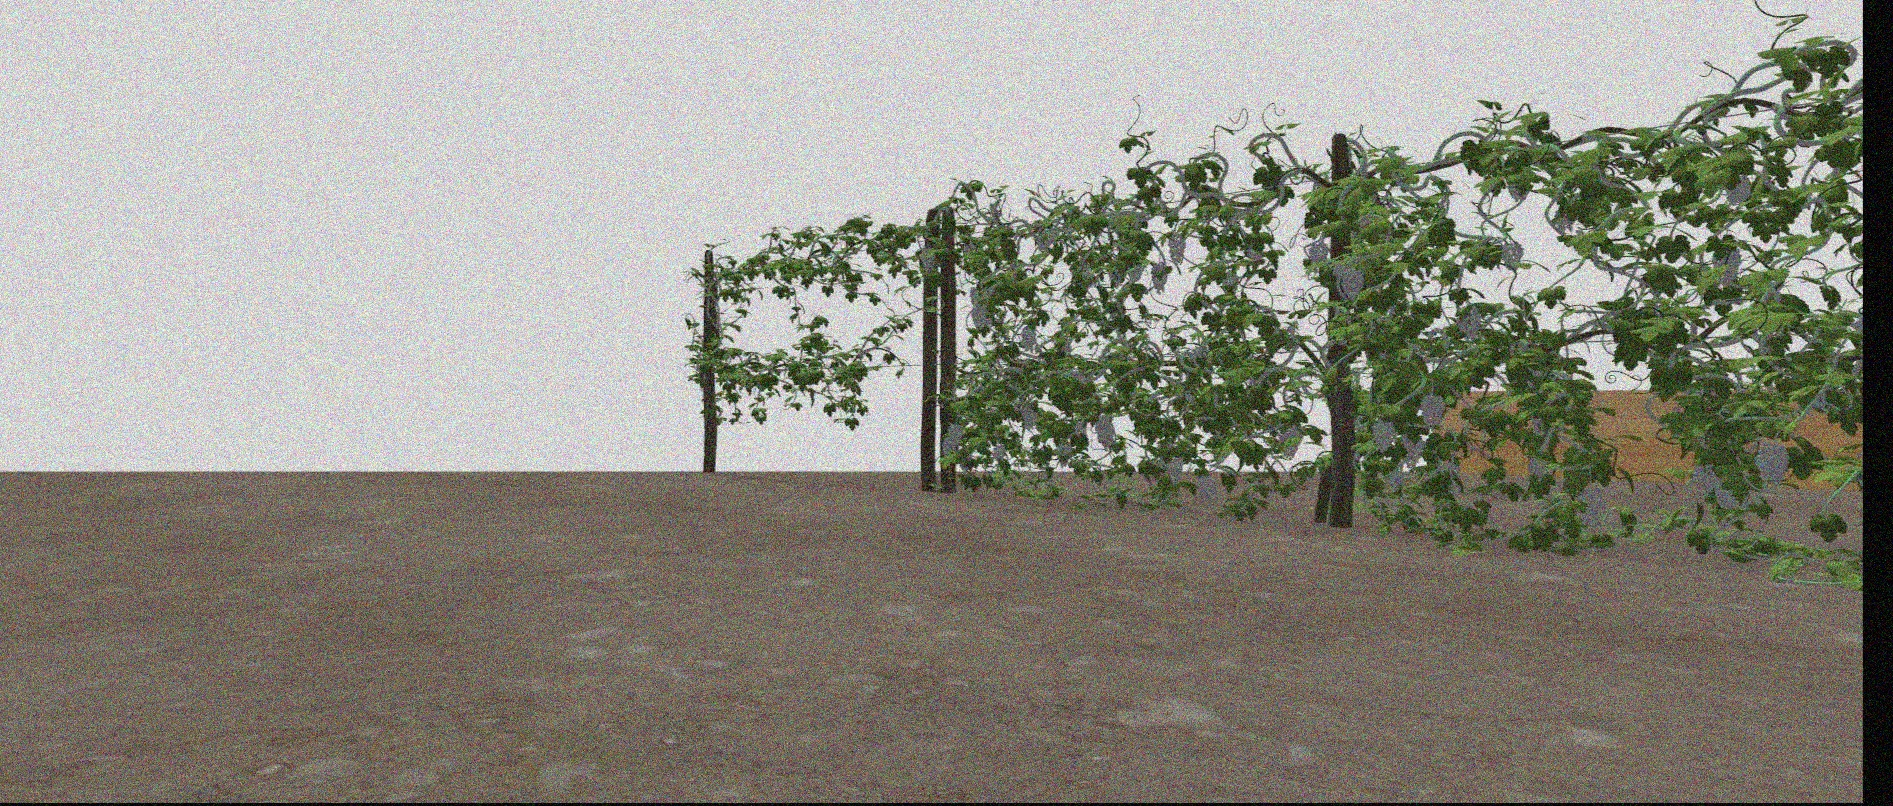grape: (1754, 440, 1789, 486), (1709, 243, 1742, 287), (1577, 486, 1604, 528), (1456, 304, 1481, 344), (1399, 433, 1425, 471), (1690, 460, 1717, 495), (1419, 392, 1445, 427), (1725, 173, 1752, 206), (1370, 417, 1394, 452), (1278, 422, 1301, 459), (1340, 267, 1364, 300), (1714, 477, 1738, 509), (1094, 415, 1114, 452), (1499, 239, 1524, 270), (1151, 261, 1169, 294), (1196, 474, 1217, 503), (1167, 232, 1186, 264), (1307, 240, 1328, 267), (971, 303, 991, 327), (1526, 457, 1545, 481), (1021, 402, 1037, 430), (920, 245, 936, 271), (1021, 323, 1036, 351), (1166, 457, 1183, 479), (946, 424, 963, 444), (1387, 471, 1404, 487), (942, 438, 955, 456), (992, 444, 1004, 460)
